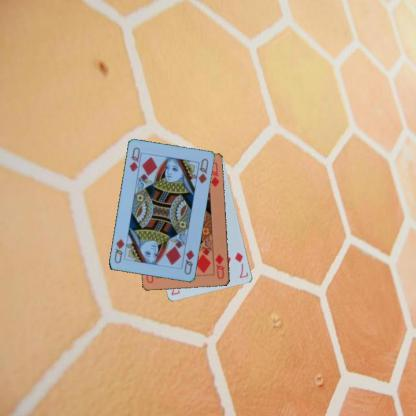7d: (232, 250, 250, 280)
Qd: (127, 145, 143, 176), (182, 247, 196, 276), (213, 252, 226, 280)
